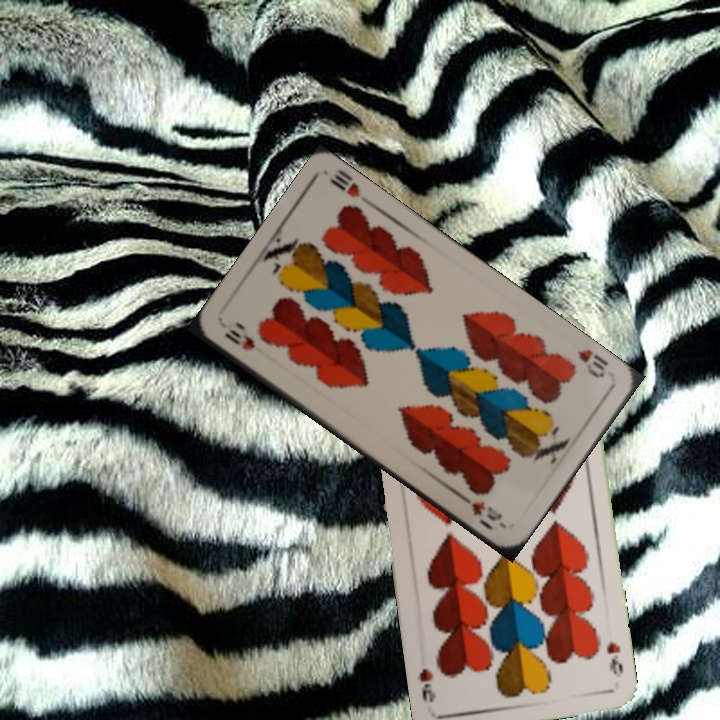H10: (573, 345, 610, 381), (220, 324, 258, 354)
H9: (602, 636, 626, 680)
